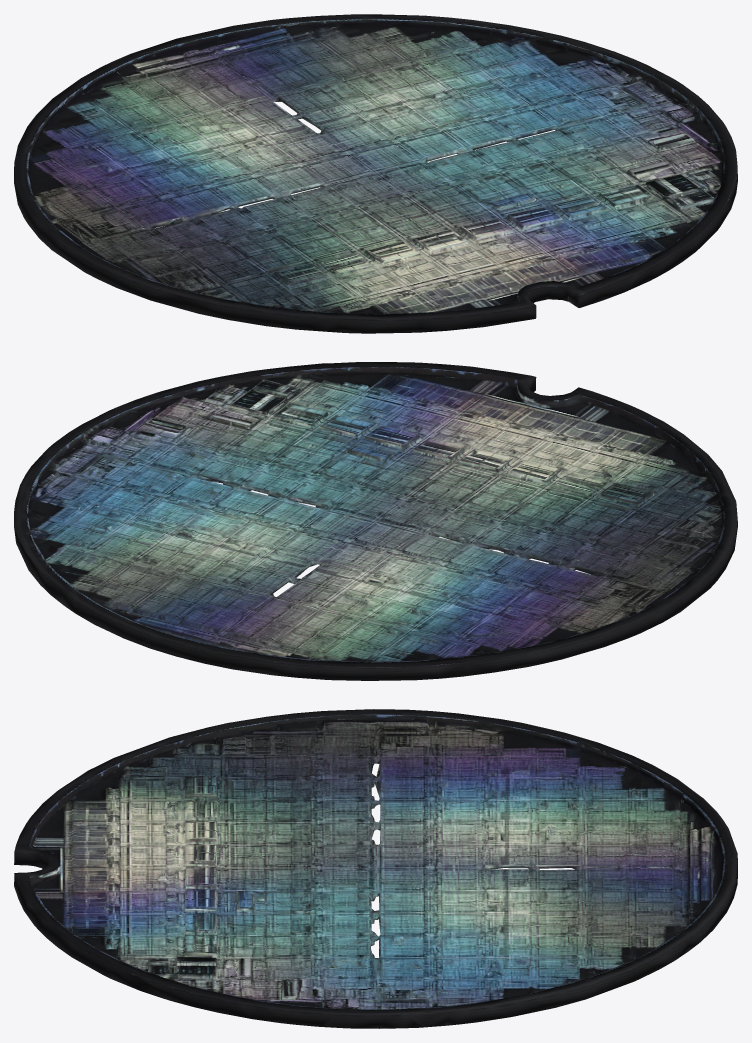
Rendered from Wafer.glb.
The picture shows the model from 3 angles, top to bottom: view 1: azimuth 30°, elevation 25°; view 2: azimuth 150°, elevation 25°; view 3: azimuth 270°, elevation 25°; orthographic projection.
Visible parts, largest first — view 1: Mesh_0; view 2: Mesh_0; view 3: Mesh_0.
Boxes of the visible parts, x1,y1,x2,y2 form: Mesh_0: [14, 14, 737, 333]; Mesh_0: [14, 362, 737, 680]; Mesh_0: [14, 709, 737, 1028].
Bounding box in the file's own units: 1.9 × 0.0418 × 1.9.
Materials: 1 (1 with a texture image).
